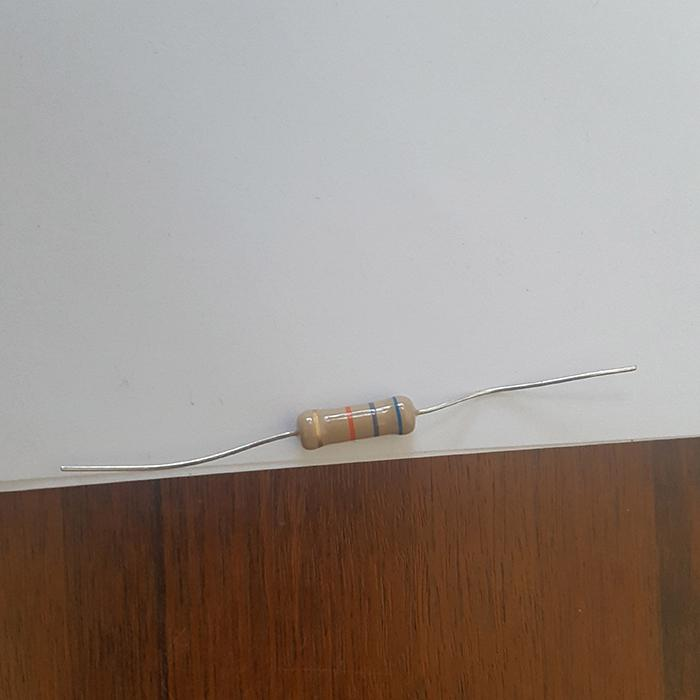resistor: (296, 394, 419, 450)
